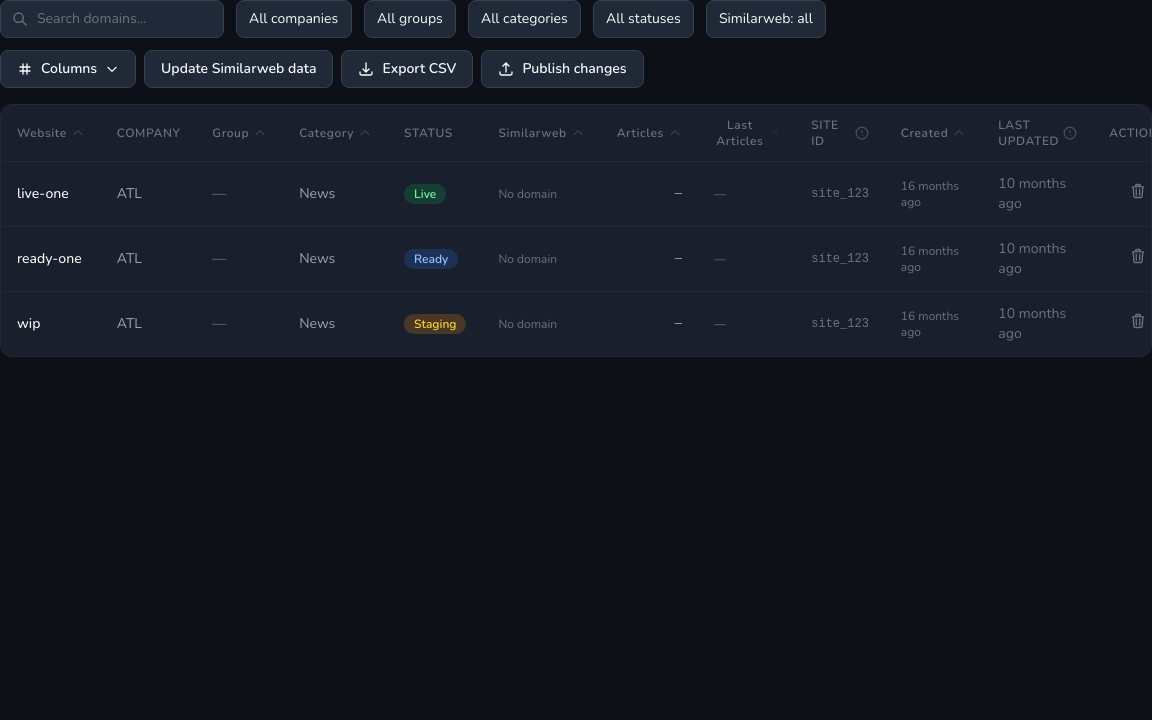
it: SitesTable: Publish changes toolbar button › opens the bulk publish modal and scans only when clicked
This screenshot has width=1152, height=720.
Click the button "Publish changes" at (562, 69), box [481,50,644,88]
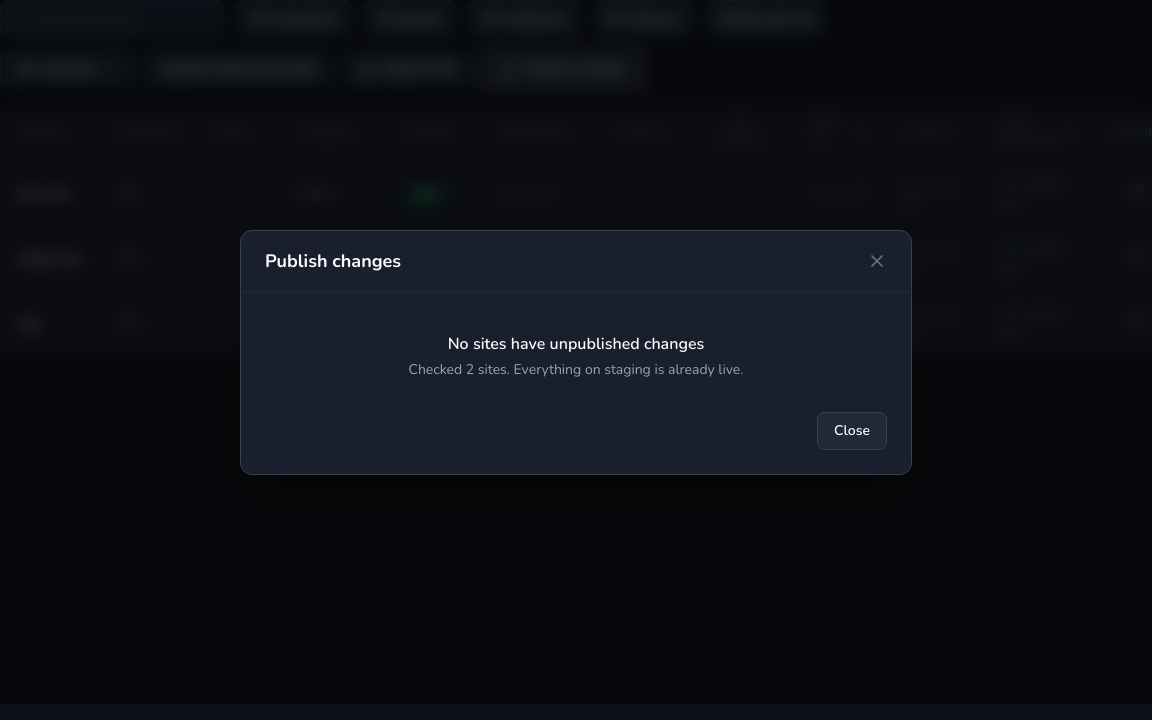
Check: the text "No sites have unpublished changes" is shown, box [448,332,704,354]
